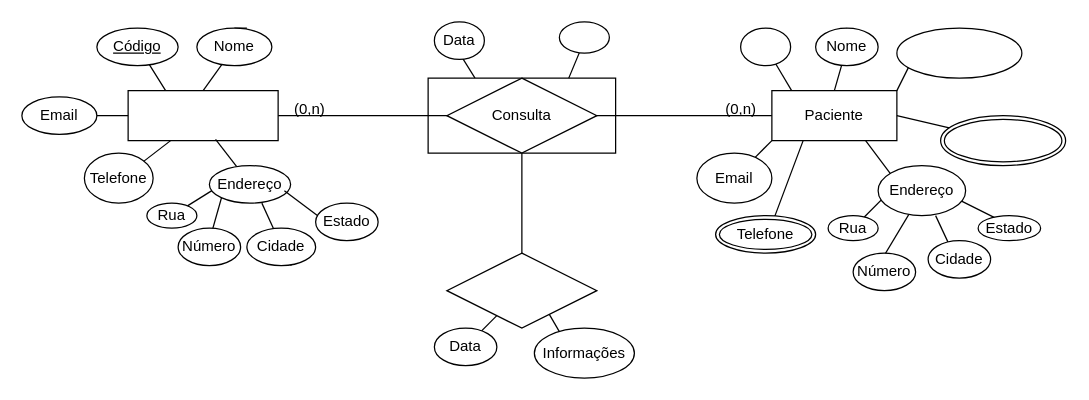
The diagram is 1089 pixels wide and 400 high, and some of its shapes have lost their labels. The shapes that lost their labels are listed below. From the top down, each one's centre as x and y in pixels, then its label:
At point 583,37: "Hora".
At point 765,46: "ID".
At point 959,52: "Data_Nascimento".
At point 202,115: "Profissional".
At point 1002,140: "Responsável".
At point 521,290: "Relatório".
